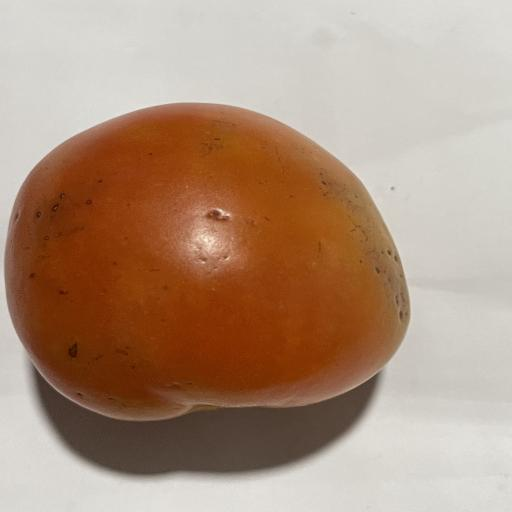ripe: (5, 103, 410, 421)
